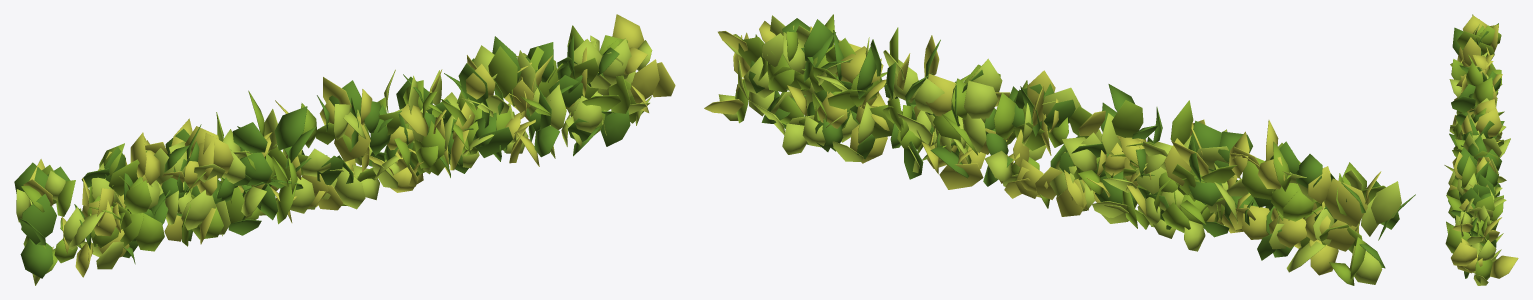
Rendered from IvyLintel.fbx.
3 renders of one model, left to right at view 1: azimuth 30°, elevation 25°; view 2: azimuth 150°, elevation 25°; view 3: azimuth 270°, elevation 25°, orthographic. The views are drawn at different scales.
Parts seen in each view (by area): view 1: Soft lintel foliage; view 2: Soft lintel foliage; view 3: Soft lintel foliage.
Boxes of the visible parts, x1=… form: Soft lintel foliage: x1=14, y1=14, x2=675, y2=285; Soft lintel foliage: x1=704, y1=14, x2=1415, y2=285; Soft lintel foliage: x1=1444, y1=14, x2=1518, y2=285.
Bounding box in the file's own units: 4.16 × 0.8121 × 0.604.
